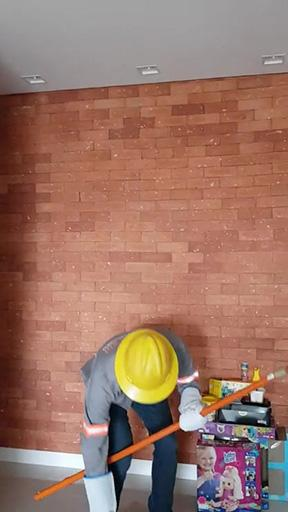Vara_Manobra: (35, 377, 270, 501)
